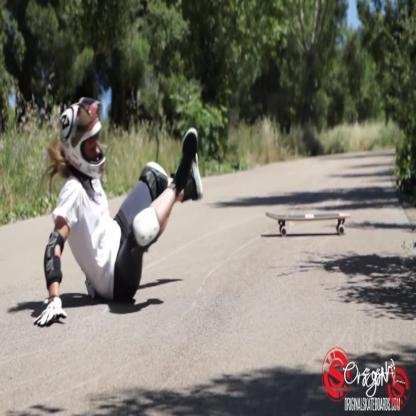Fall_Down: (34, 103, 204, 331)
